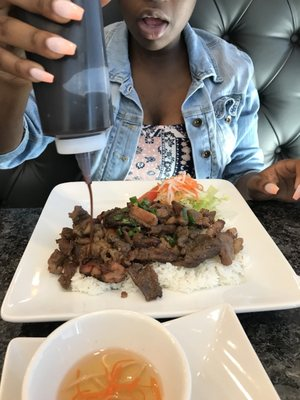sushi: (20, 309, 192, 400)
